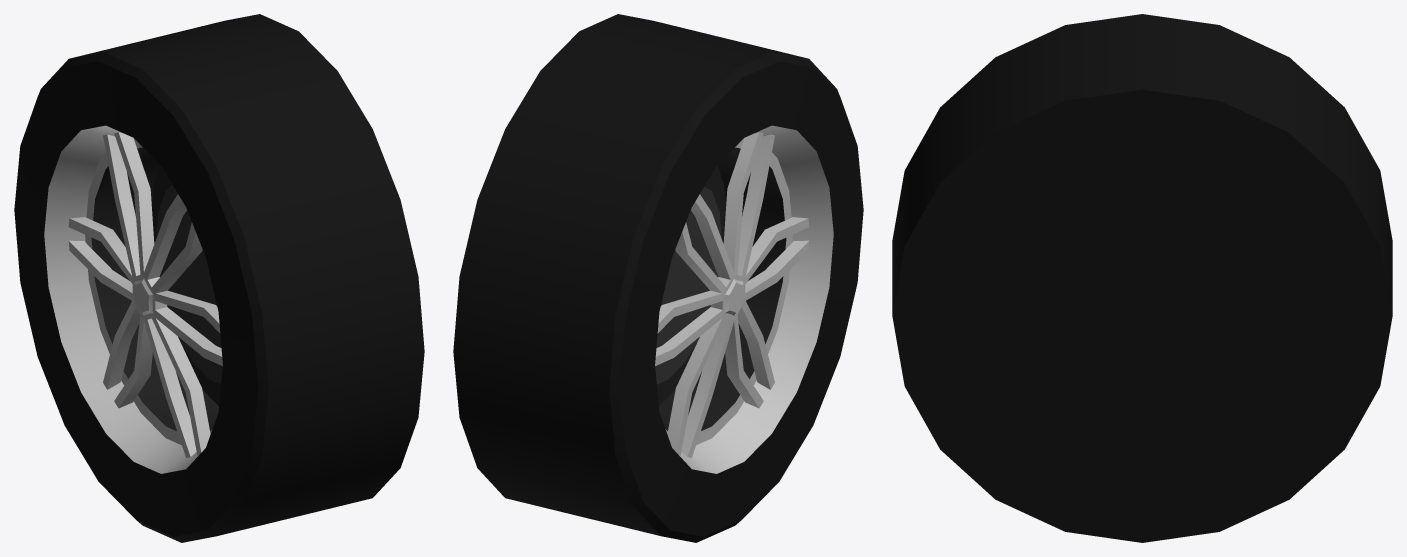
Rendered from chevy-wheel.glb.
3 renders of one model, left to right at view 1: azimuth 30°, elevation 25°; view 2: azimuth 150°, elevation 25°; view 3: azimuth 270°, elevation 25°, orthographic.
Visible parts, largest first — view 1: model; view 2: model; view 3: model.
Boxes of the visible parts, left/top/right/bottom form: model: left=14, top=14, right=424, bottom=542; model: left=453, top=14, right=863, bottom=542; model: left=892, top=14, right=1392, bottom=542.
Size of the model in its own units: 0.2809 by 0.7414 by 0.7414.
Materials: 1 (1 with a texture image).
